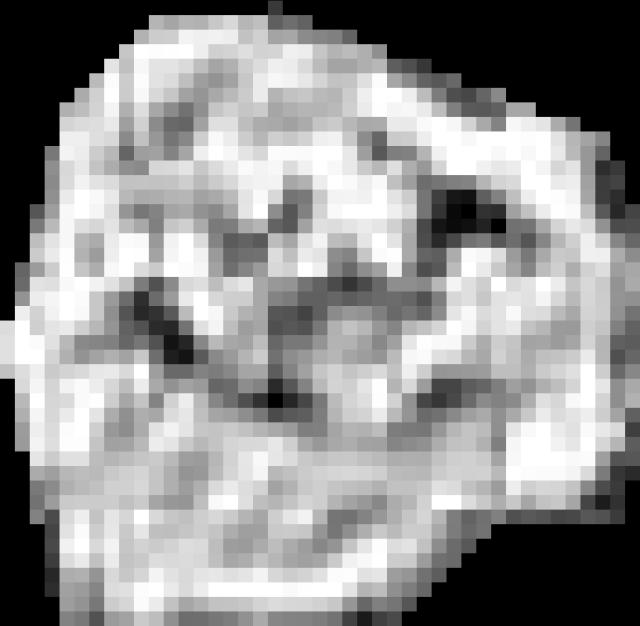tumor_good_chance: (0, 1, 640, 626)
